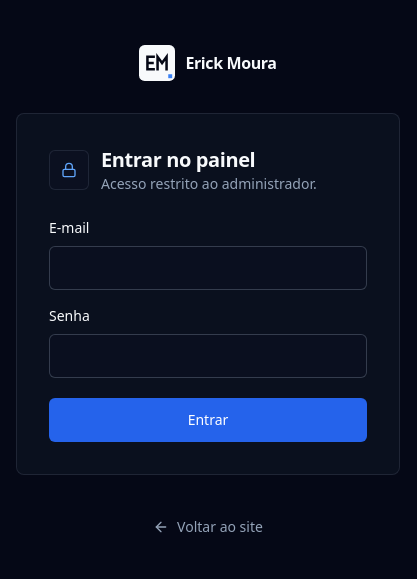
Test case: AdminApp — login › mostra uma mensagem genérica quando as credenciais são recusadas
This screenshot has width=417, height=579.
Type "pessoa@example.com" into the field labelled "E-mail". click: (208, 268)
box: [49, 246, 367, 290]
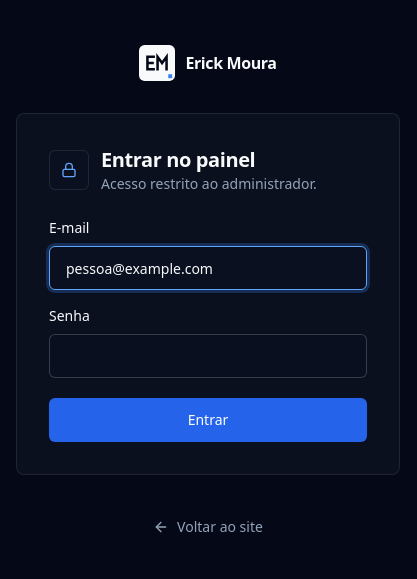
Type "senha-incorreta" into the password field labelled "Senha". click: (208, 356)
box: [49, 334, 367, 378]
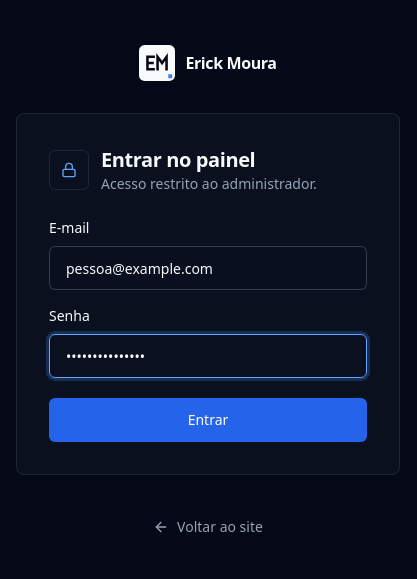
Click the button "Entrar". click: (208, 420)
box: [49, 398, 367, 442]
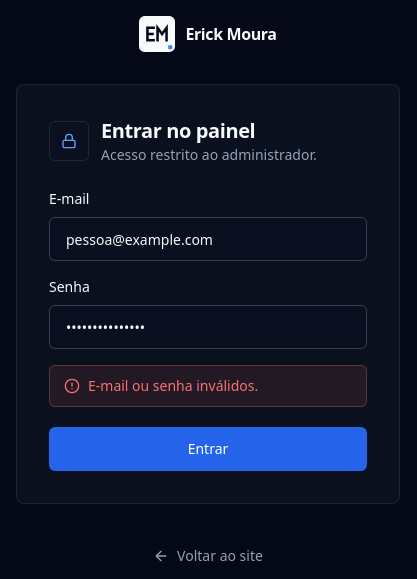
Result: the message reads "E-mail ou senha inválidos." at [88, 376, 258, 395]
